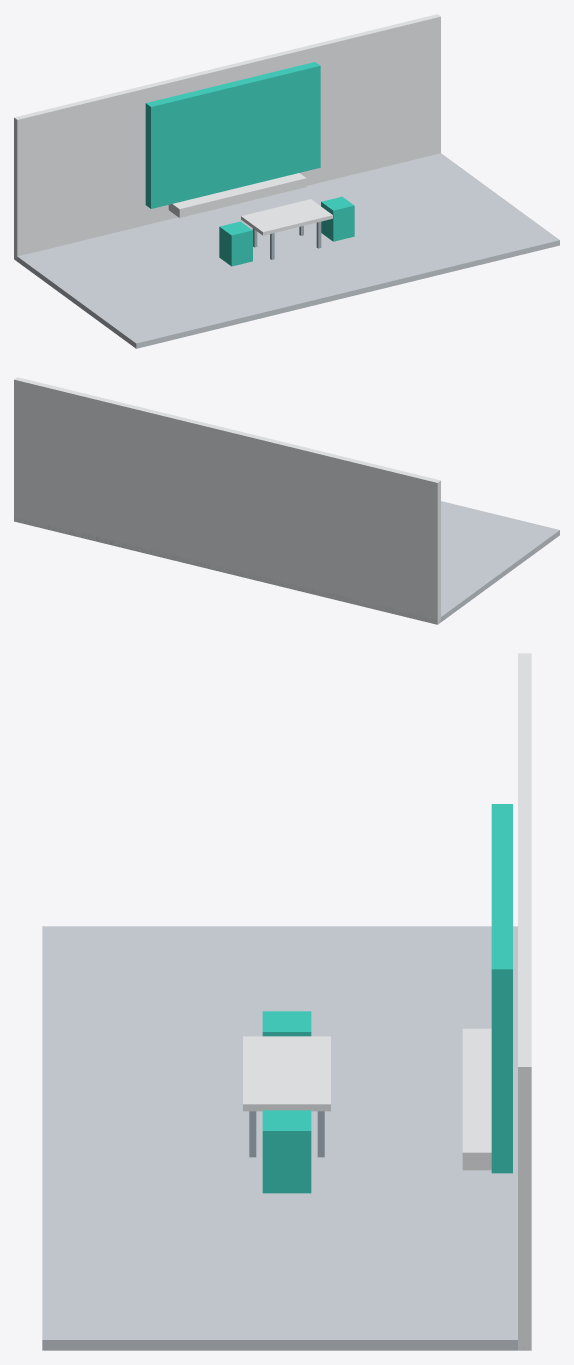
The picture shows the model from 3 angles, top to bottom: view 1: azimuth 30°, elevation 25°; view 2: azimuth 150°, elevation 25°; view 3: azimuth 270°, elevation 25°; orthographic projection. The views are drawn at different scales.
Visible parts, largest first — view 1: Exhibition Booth Concept; view 2: Exhibition Booth Concept; view 3: Exhibition Booth Concept.
Boxes of the visible parts, x1,y1,x2,y2 form: Exhibition Booth Concept: (14,14,559,348); Exhibition Booth Concept: (14,377,559,624); Exhibition Booth Concept: (42,653,531,1350).
Size of the model in its own units: 10 by 3.2 by 5.
